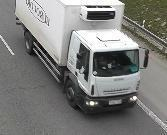truck: (16, 0, 149, 114)
